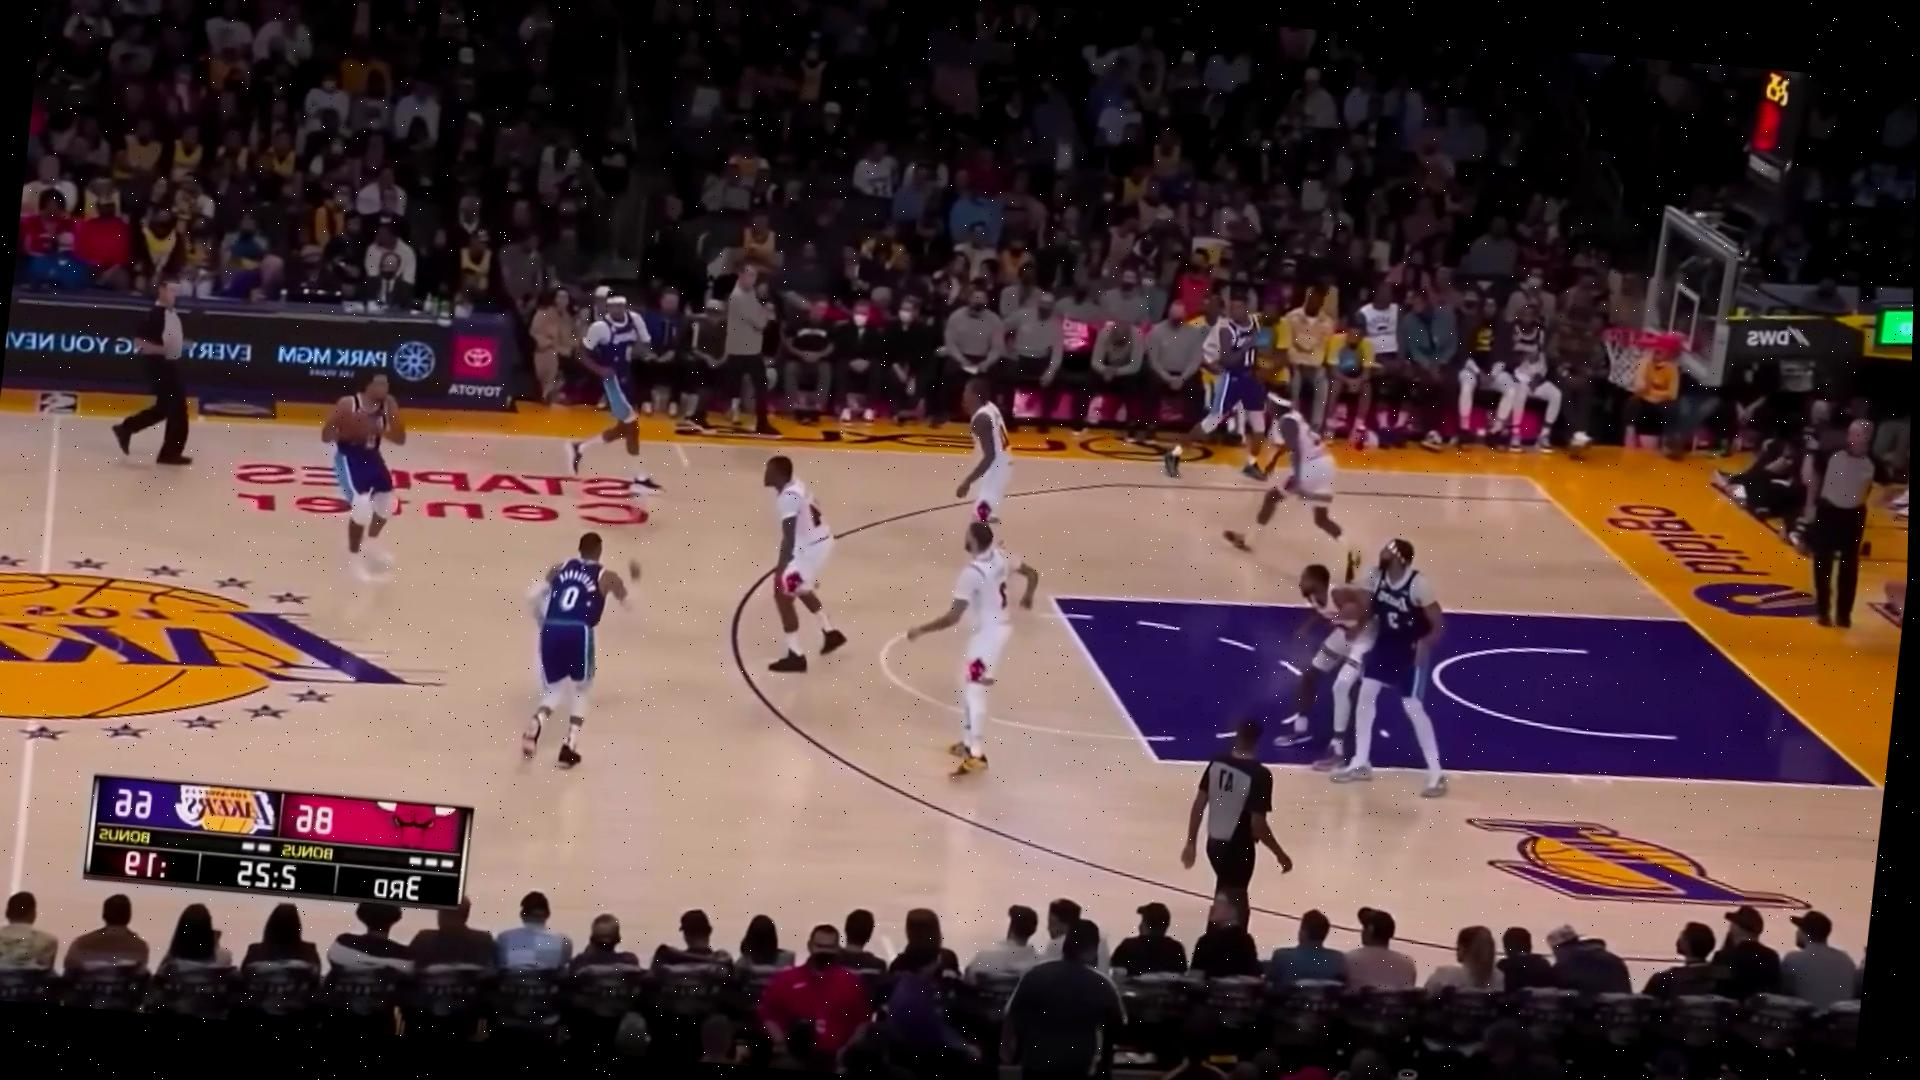foul: (1282, 517, 1473, 780)
